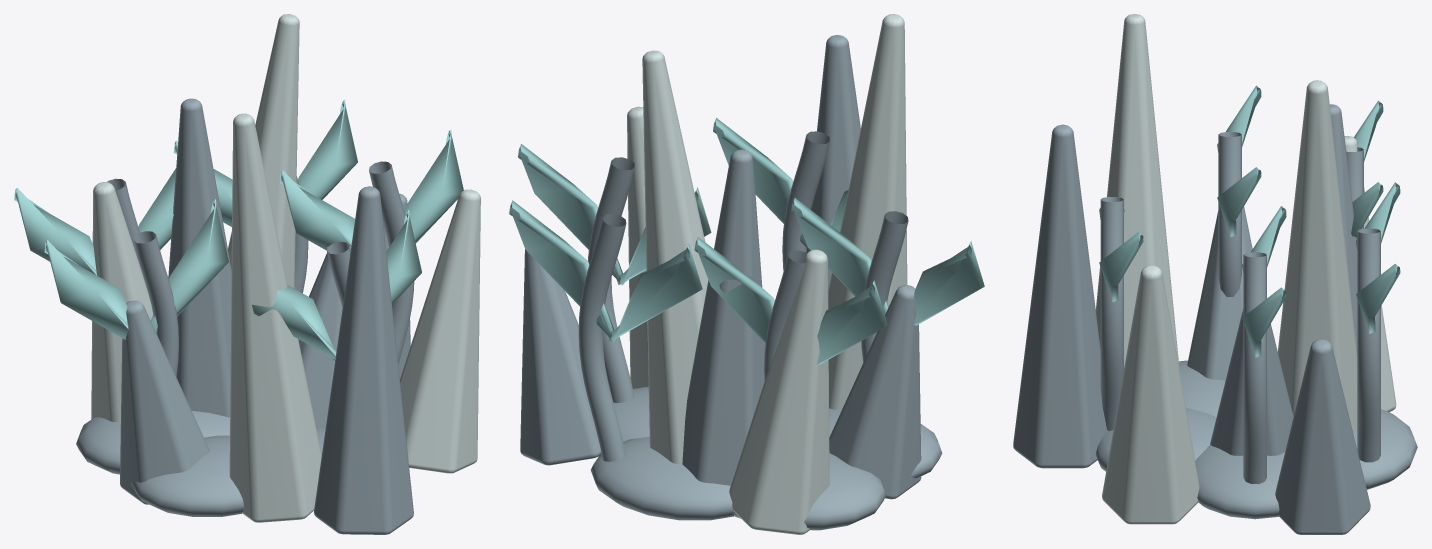
Rendered from bio_crystal_fan_02_near.glb.
3 views of the same model, side by side, from view 1: azimuth 30°, elevation 25°; view 2: azimuth 150°, elevation 25°; view 3: azimuth 270°, elevation 25° (orthographic). The views are drawn at different scales.
Visible parts, largest first — view 1: Reflecting mineral prism.007, Reflecting mineral prism.002, Reflecting mineral prism.005, Reflecting mineral prism.006, Reflecting mineral prism.004, Mineral substrate, Reflecting mineral prism.003, Reflecting mineral prism.001, Secondary fan lobe.008, Secondary fan lobe, Secondary fan lobe.002, Secondary fan lobe.004 (+7 smaller); view 2: Reflecting mineral prism.001, Reflecting mineral prism.003, Reflecting mineral prism.006, Mineral substrate, Reflecting mineral prism.007, Reflecting mineral prism.004, Reflecting mineral prism.008, Secondary fan lobe.006, Secondary fan lobe.008, Secondary fan lobe.002, Branching support.003, Reflecting mineral prism.002 (+7 smaller); view 3: Reflecting mineral prism.002, Reflecting mineral prism.005, Reflecting mineral prism.003, Reflecting mineral prism.008, Reflecting mineral prism.007, Mineral substrate, Reflecting mineral prism, Reflecting mineral prism.004, Branching support.003, Branching support, Branching support.002, Branching support.004 (+8 smaller).
Boxes of the visible parts, x1,y1,x2,y2 form: Reflecting mineral prism.007: [229, 113, 321, 522]; Reflecting mineral prism.002: [314, 186, 413, 534]; Reflecting mineral prism.005: [400, 189, 480, 473]; Reflecting mineral prism.006: [168, 98, 231, 417]; Reflecting mineral prism.004: [120, 300, 209, 504]; Mineral substrate: [76, 411, 325, 516]; Reflecting mineral prism.003: [228, 14, 299, 288]; Reflecting mineral prism.001: [91, 182, 153, 421]; Secondary fan lobe.008: [44, 199, 228, 339]; Secondary fan lobe: [280, 129, 463, 250]; Secondary fan lobe.002: [14, 168, 176, 275]; Secondary fan lobe.004: [252, 210, 421, 360]; Reflecting mineral prism.001: [729, 249, 829, 534]; Reflecting mineral prism.003: [642, 50, 708, 464]; Reflecting mineral prism.006: [682, 149, 765, 485]; Mineral substrate: [590, 387, 942, 530]; Reflecting mineral prism.007: [828, 14, 907, 409]; Reflecting mineral prism.004: [829, 285, 921, 499]; Reflecting mineral prism.008: [520, 249, 601, 465]; Secondary fan lobe.006: [509, 200, 702, 342]; Secondary fan lobe.008: [791, 198, 984, 325]; Secondary fan lobe.002: [694, 237, 887, 364]; Branching support.003: [578, 214, 626, 461]; Reflecting mineral prism.002: [806, 35, 860, 290]; Reflecting mineral prism.002: [1013, 124, 1107, 468]; Reflecting mineral prism.005: [1102, 265, 1199, 524]; Reflecting mineral prism.003: [1277, 80, 1357, 431]; Reflecting mineral prism.008: [1275, 339, 1370, 534]; Reflecting mineral prism.007: [1095, 14, 1179, 372]; Mineral substrate: [1095, 360, 1417, 519]; Reflecting mineral prism: [1210, 309, 1293, 455]; Reflecting mineral prism.004: [1187, 207, 1252, 380]; Branching support.003: [1357, 228, 1380, 462]; Branching support: [1243, 252, 1266, 484]; Branching support.002: [1100, 197, 1123, 430]; Branching support.004: [1218, 132, 1241, 296].
Size of the model in its own units: 1.85 by 1.73 by 1.55.
